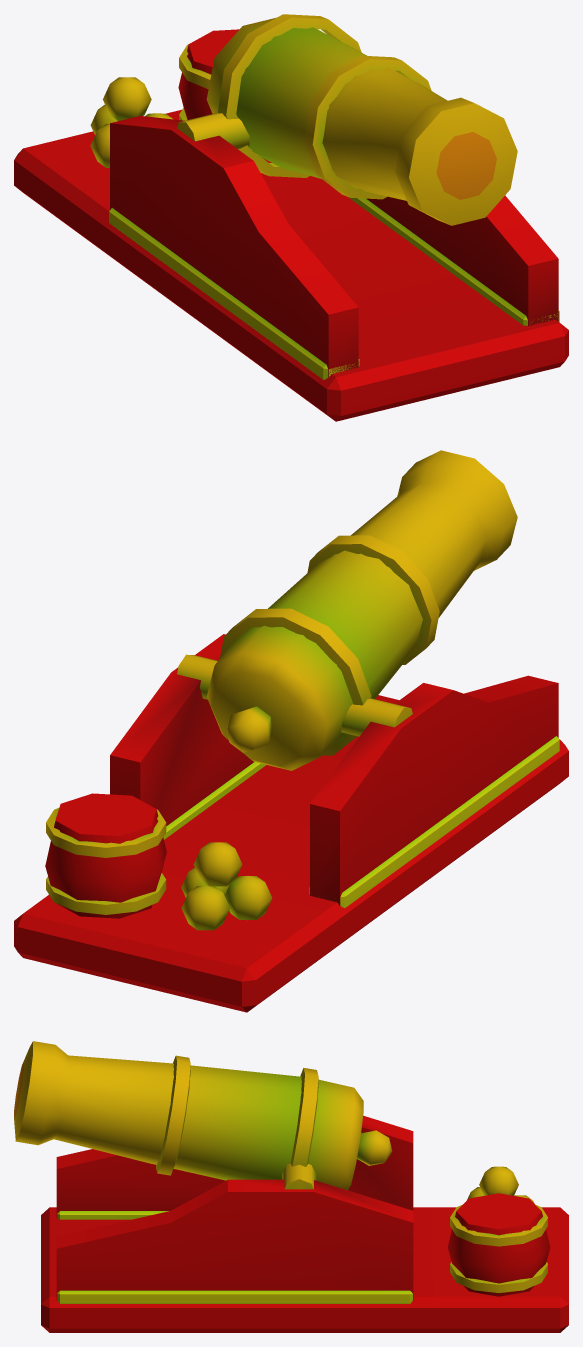
File: PirateCannon_LOD1.glb
3 views of the same model, one above another, from view 1: azimuth 30°, elevation 25°; view 2: azimuth 150°, elevation 25°; view 3: azimuth 270°, elevation 25° (orthographic). The views are drawn at different scales.
Visible parts, largest first — view 1: PirateCannon_LOD1; view 2: PirateCannon_LOD1; view 3: PirateCannon_LOD1.
Part boxes in pixels (<box>): PirateCannon_LOD1: <box>14,14,568,421</box>; PirateCannon_LOD1: <box>14,450,568,1012</box>; PirateCannon_LOD1: <box>14,1041,568,1332</box>.
Bounding box in the file's own units: 1.4 × 1.63 × 3.4.
